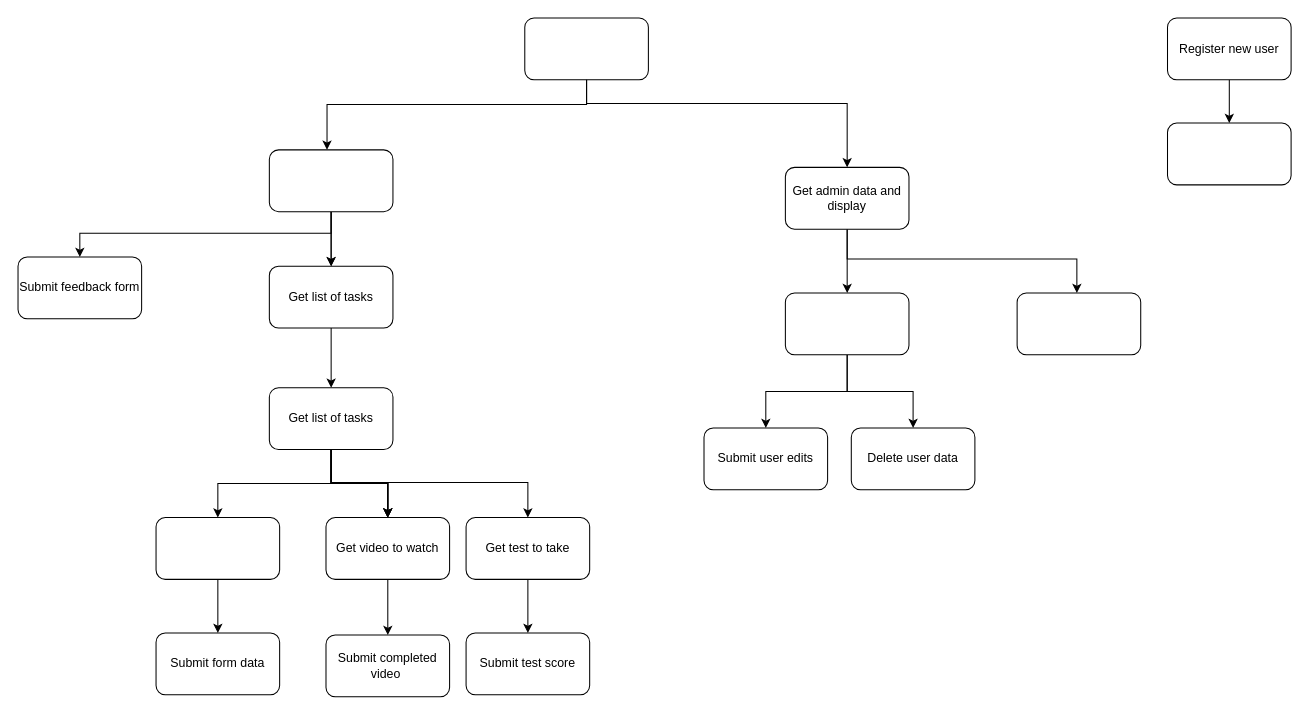
This 1309x715 diagram has some shape labels left out. The centre of each missing label's shape, as x and y in pixels:
Get form to complete: the point at 217,548
Get user data and display: the point at 330,180
Get user data to edit: the point at 846,323
Get user form data: the point at 1228,153
Get user report data: the point at 1078,323
Log in user: the point at 586,48
